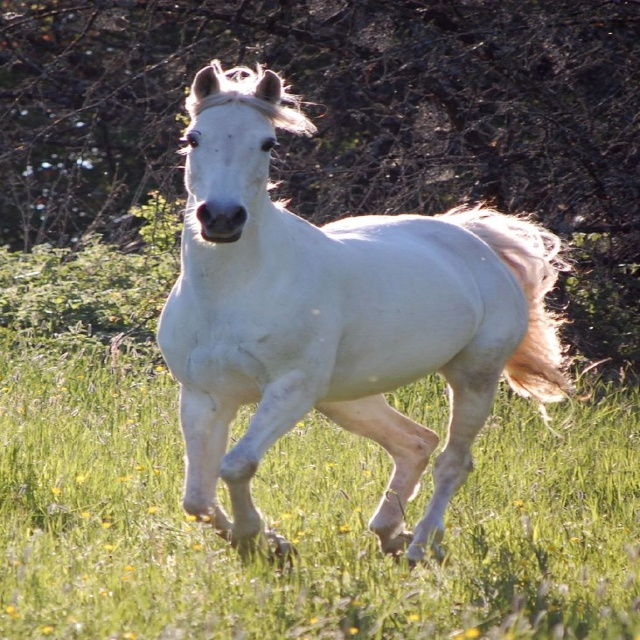Horse: (156, 56, 590, 570)
